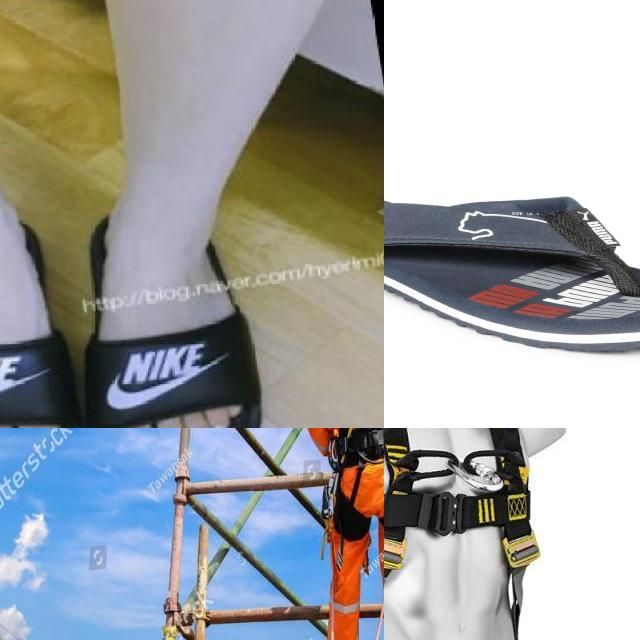Harness: (384, 428, 540, 640), (329, 428, 384, 472)
Sandals: (384, 189, 640, 354), (0, 175, 81, 428)
